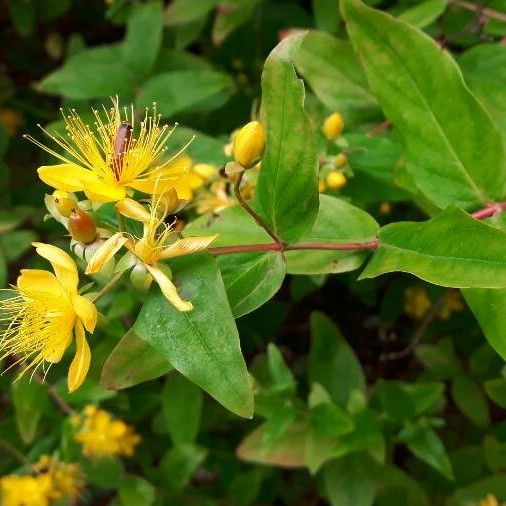obstacle: (51, 43, 470, 436)
